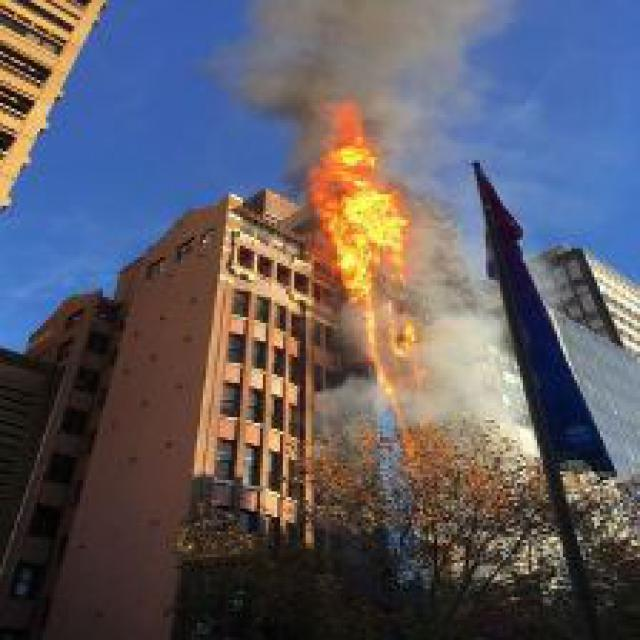fire: (300, 86, 437, 443)
